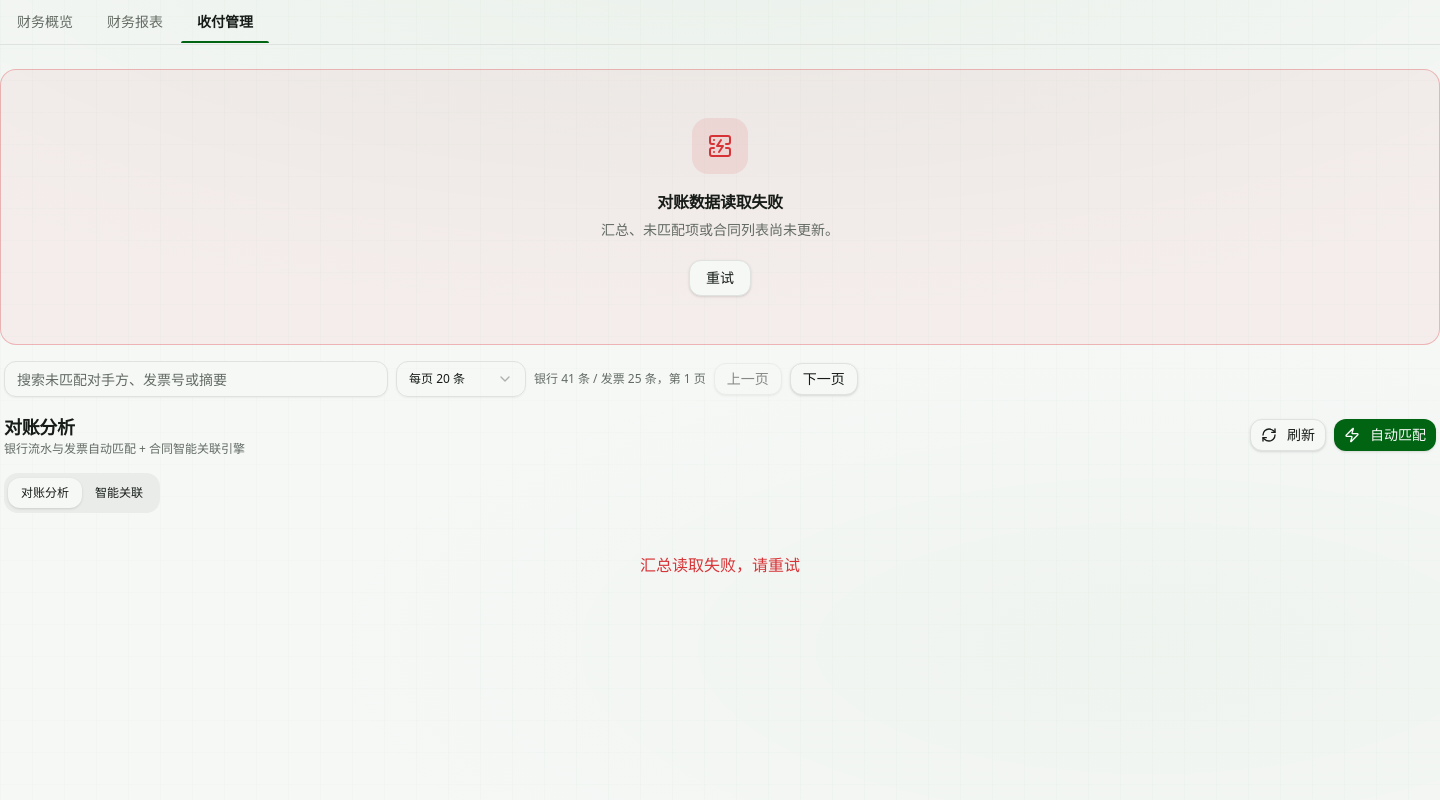
Test: 汇总失败可重试，保留失败边界
The image size is (1440, 800).
Expected: the heading "对账数据读取失败" is shown, [657,190,783,214]
Click the button "重试" at (720,278), box [689,260,751,296]
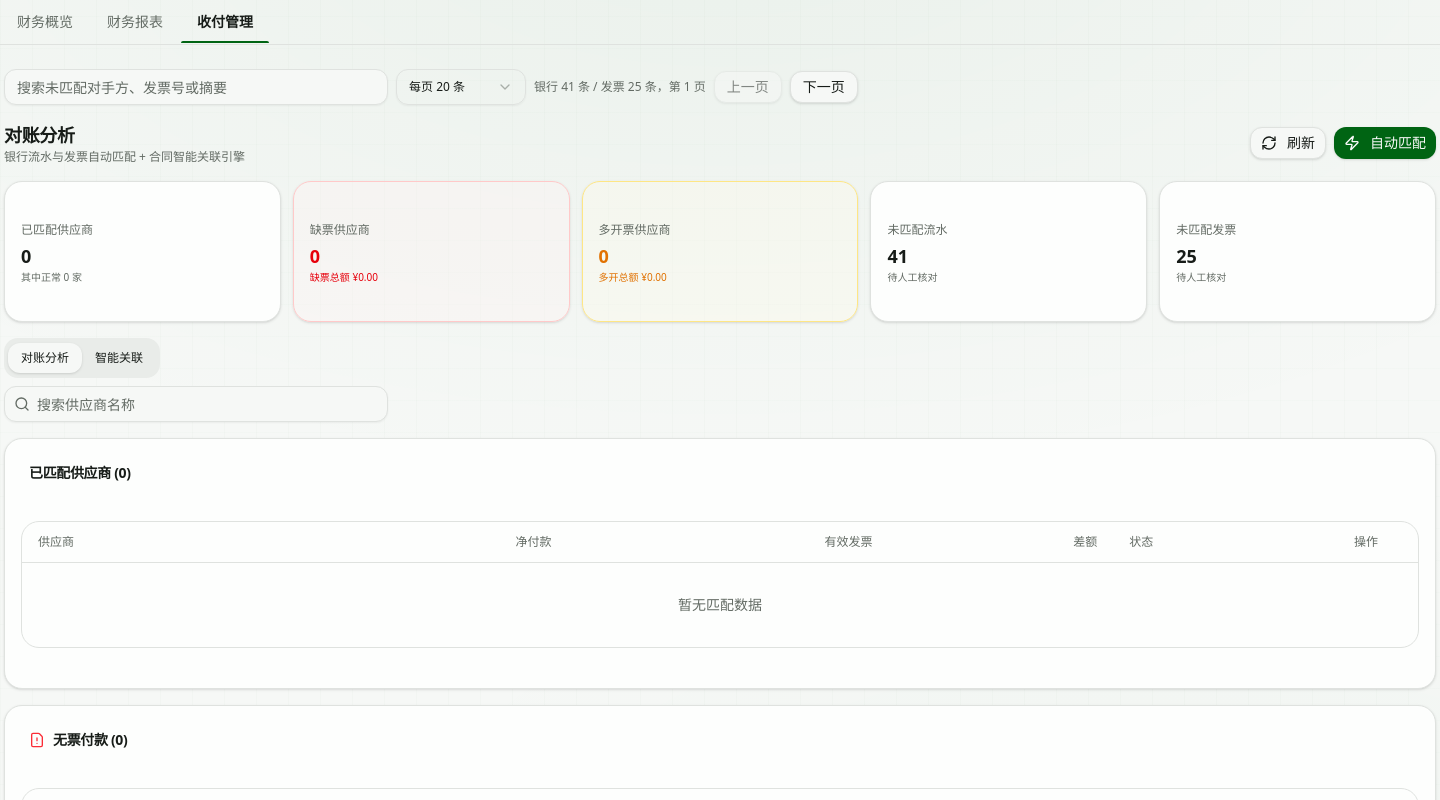
Expected: the heading "对账数据读取失败" is gone
